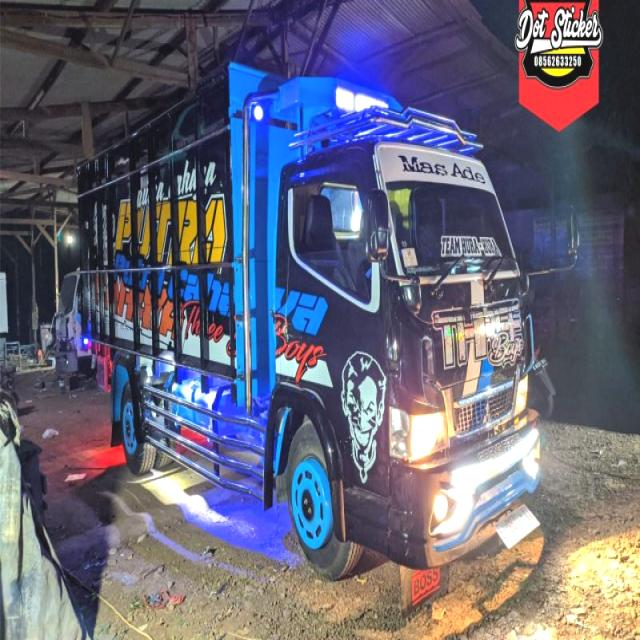truck: (79, 62, 579, 581)
